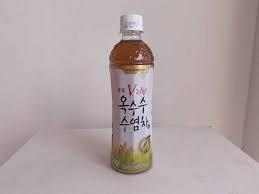oksususuyeomcha: (109, 13, 156, 174)
